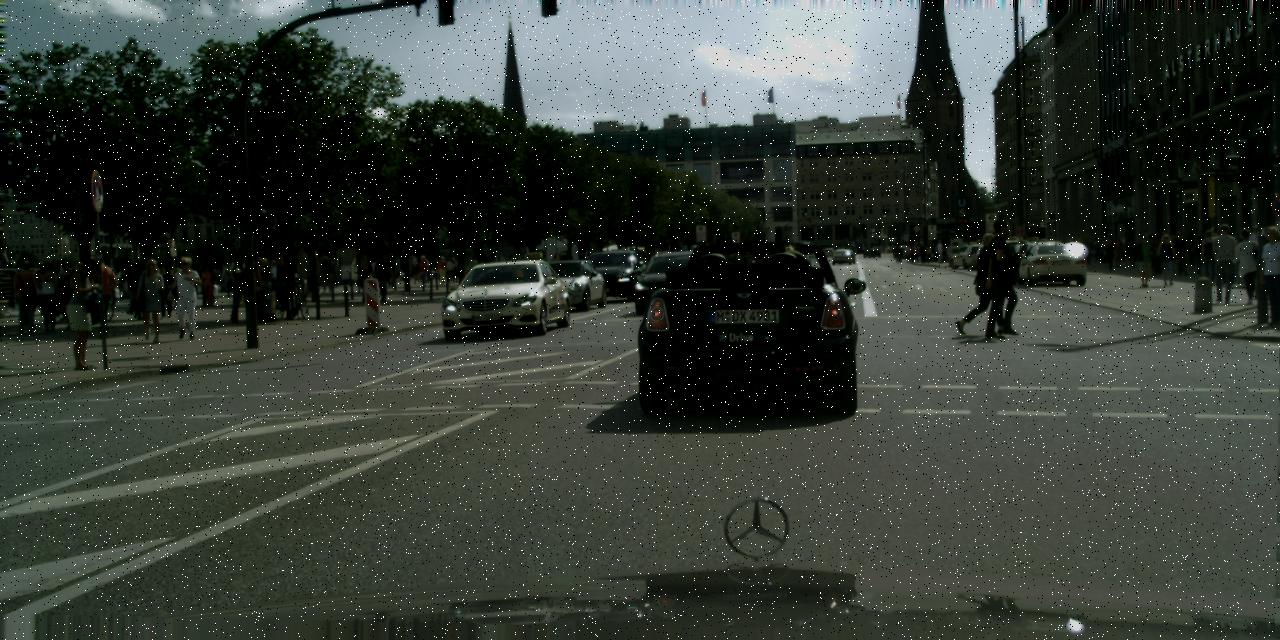ped: (980, 220, 1026, 334), (64, 259, 108, 369), (965, 232, 1006, 334), (135, 258, 168, 341), (170, 256, 202, 338), (1208, 224, 1240, 302), (85, 253, 116, 332), (1254, 225, 1278, 325), (10, 258, 40, 332), (1232, 227, 1262, 300), (34, 260, 63, 332), (1244, 224, 1268, 286), (44, 258, 67, 314), (1198, 229, 1220, 285), (1217, 228, 1239, 284), (250, 258, 272, 314), (1156, 233, 1178, 285), (1134, 233, 1154, 287), (124, 262, 144, 313), (154, 268, 174, 318), (1205, 227, 1224, 275), (272, 255, 290, 302), (372, 256, 390, 301), (357, 259, 374, 302), (198, 262, 215, 304), (258, 258, 275, 300), (1174, 233, 1190, 274), (1148, 235, 1163, 276), (200, 266, 216, 304), (1189, 236, 1204, 272), (1093, 235, 1109, 268), (319, 255, 333, 292), (1184, 232, 1198, 264), (384, 253, 397, 287), (1111, 235, 1123, 266), (1104, 238, 1115, 268), (222, 262, 234, 289), (1075, 234, 1086, 262), (562, 250, 573, 278), (418, 255, 429, 283), (1083, 238, 1094, 264), (437, 255, 447, 282), (480, 254, 490, 280), (467, 256, 477, 281), (410, 258, 420, 283), (370, 258, 380, 283), (445, 257, 455, 282), (935, 239, 944, 262), (432, 258, 441, 280), (1128, 238, 1136, 261), (1070, 234, 1078, 256), (918, 243, 926, 263), (270, 259, 278, 279), (924, 244, 931, 262), (913, 243, 920, 261), (498, 253, 504, 270), (932, 243, 938, 259), (909, 246, 914, 262), (894, 246, 900, 259), (908, 246, 912, 260)
